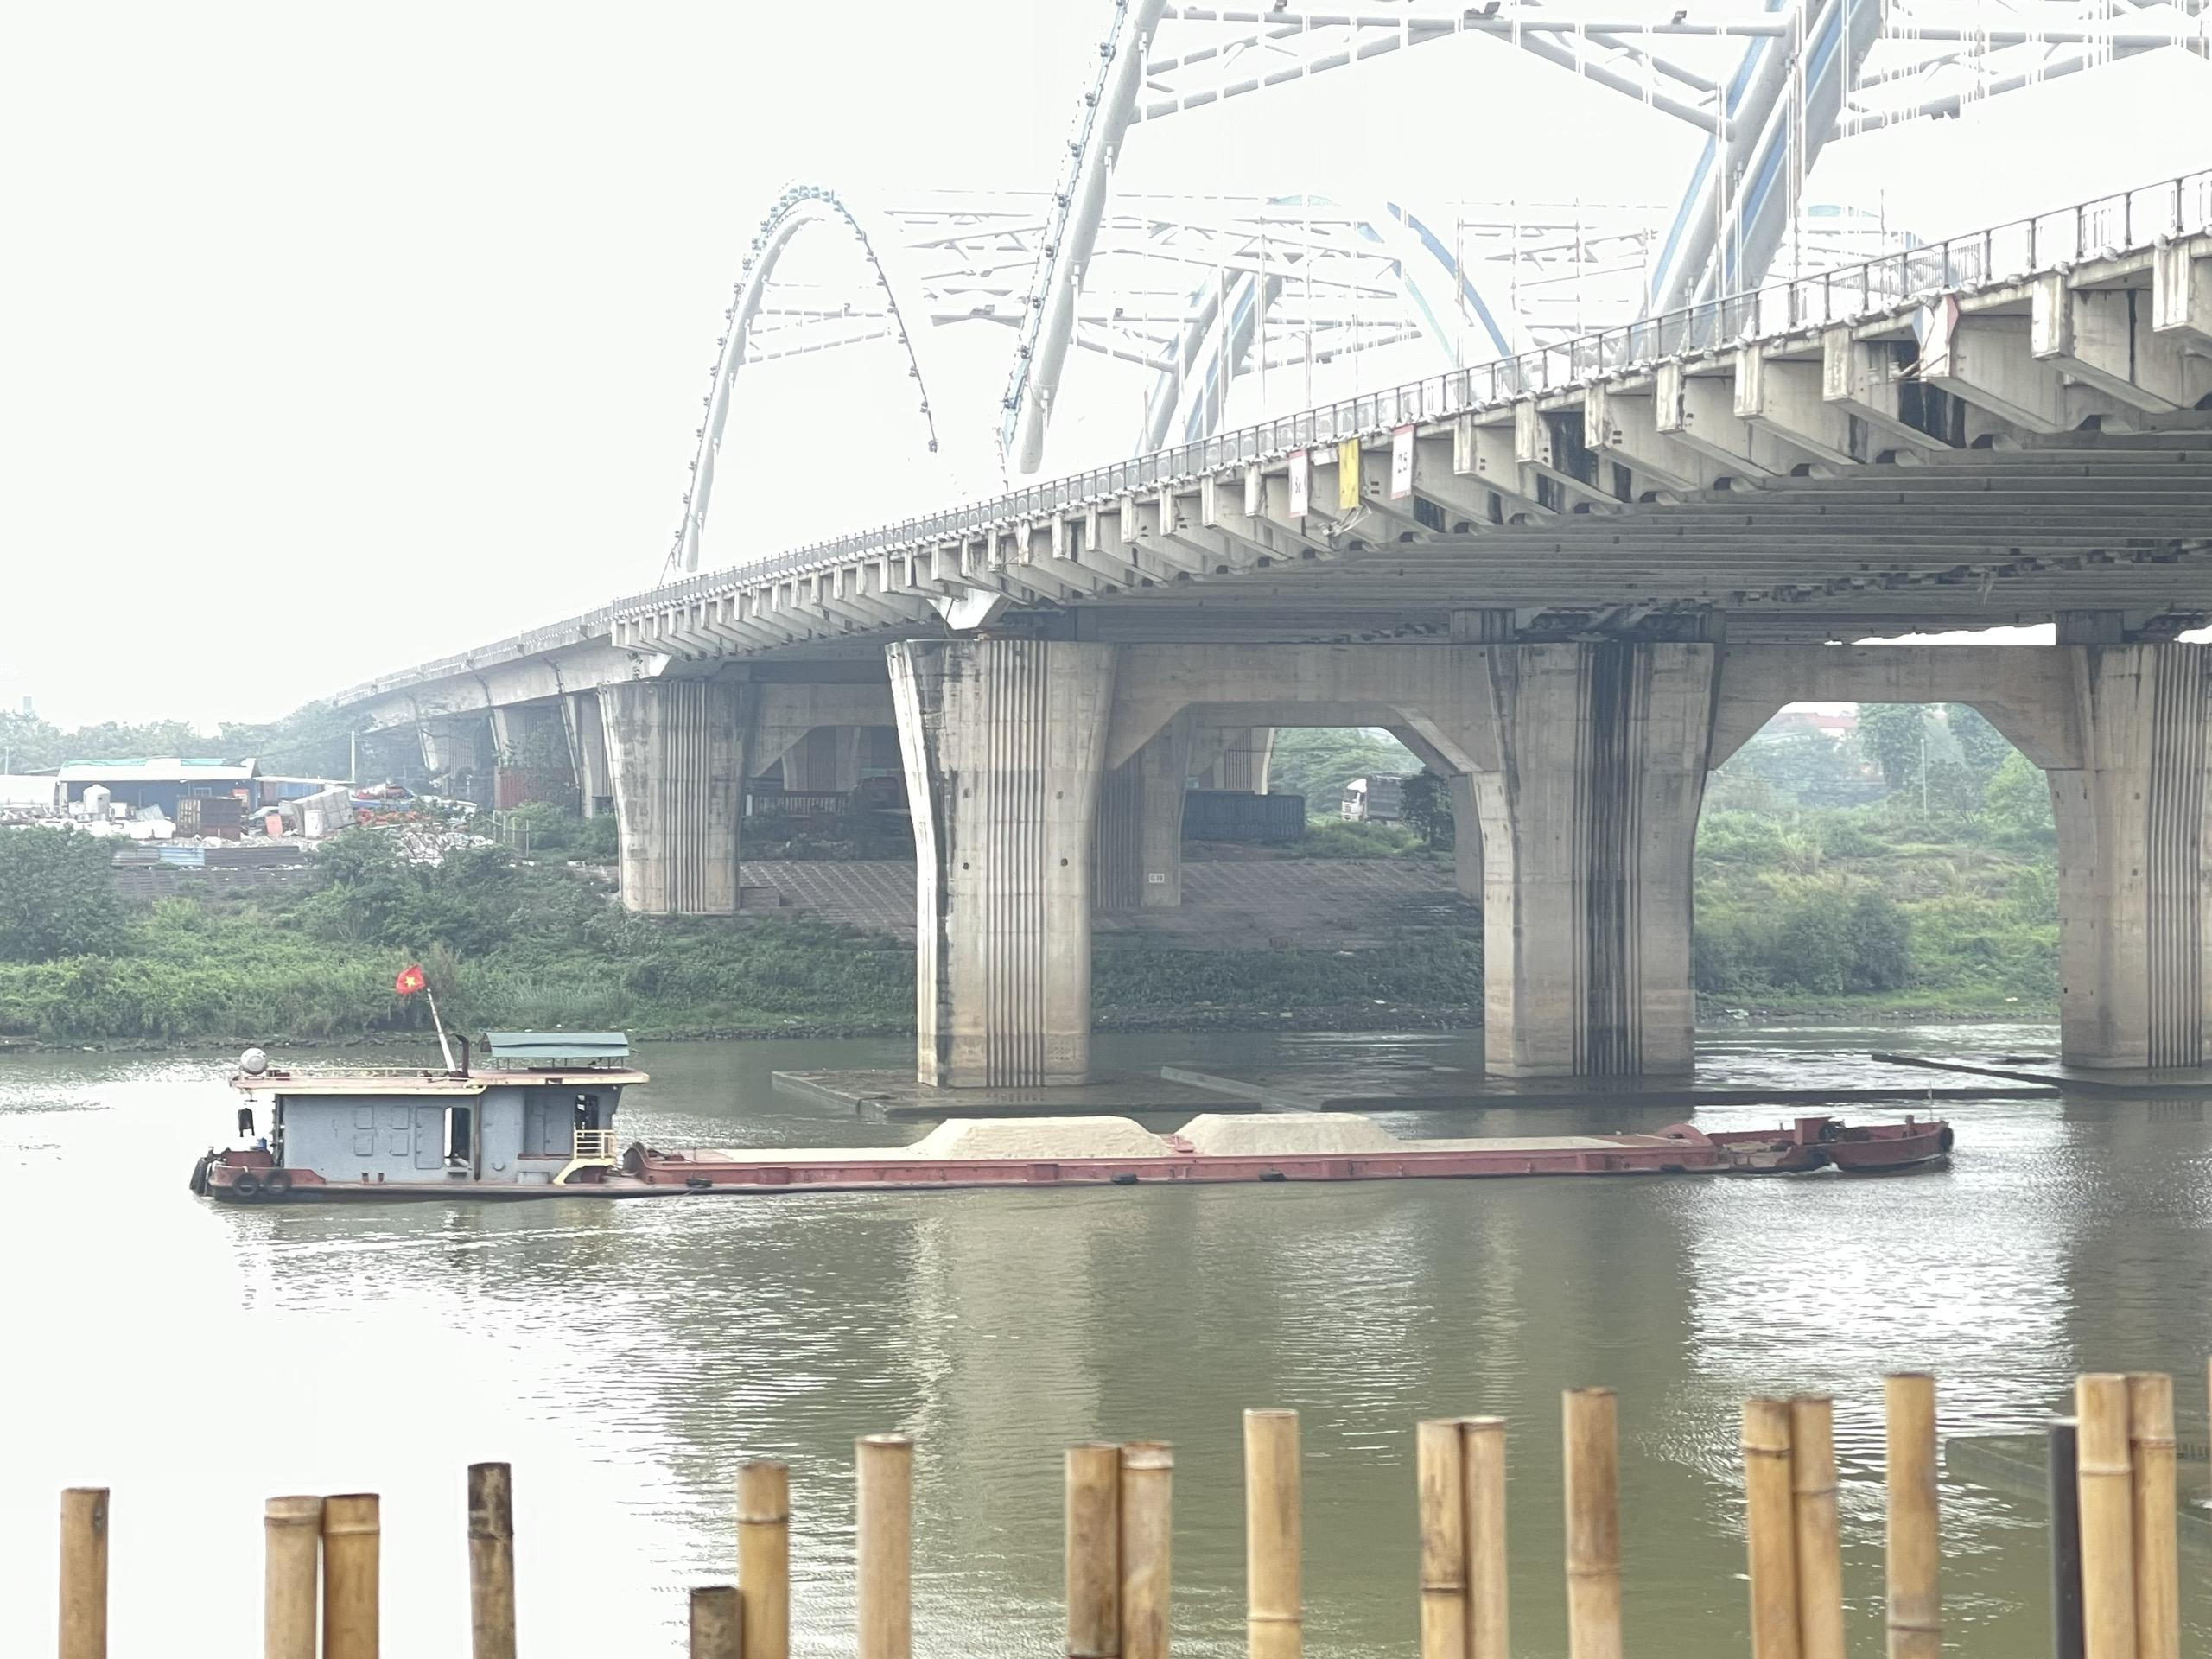Ship: (195, 1039, 1979, 1202)
